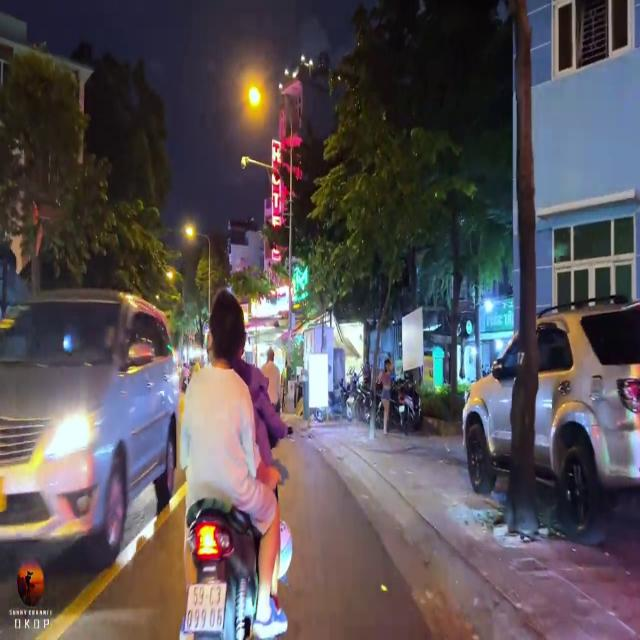bien_trang: (184, 577, 227, 636)
